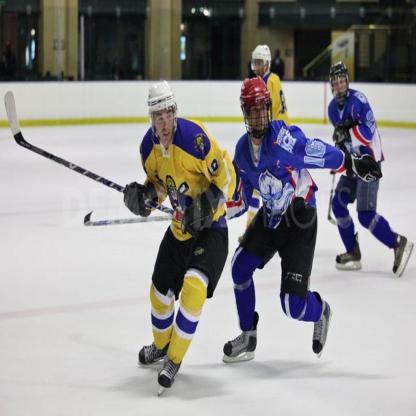face: (155, 104, 175, 143), (249, 97, 268, 133), (334, 74, 348, 100), (255, 61, 266, 81)
